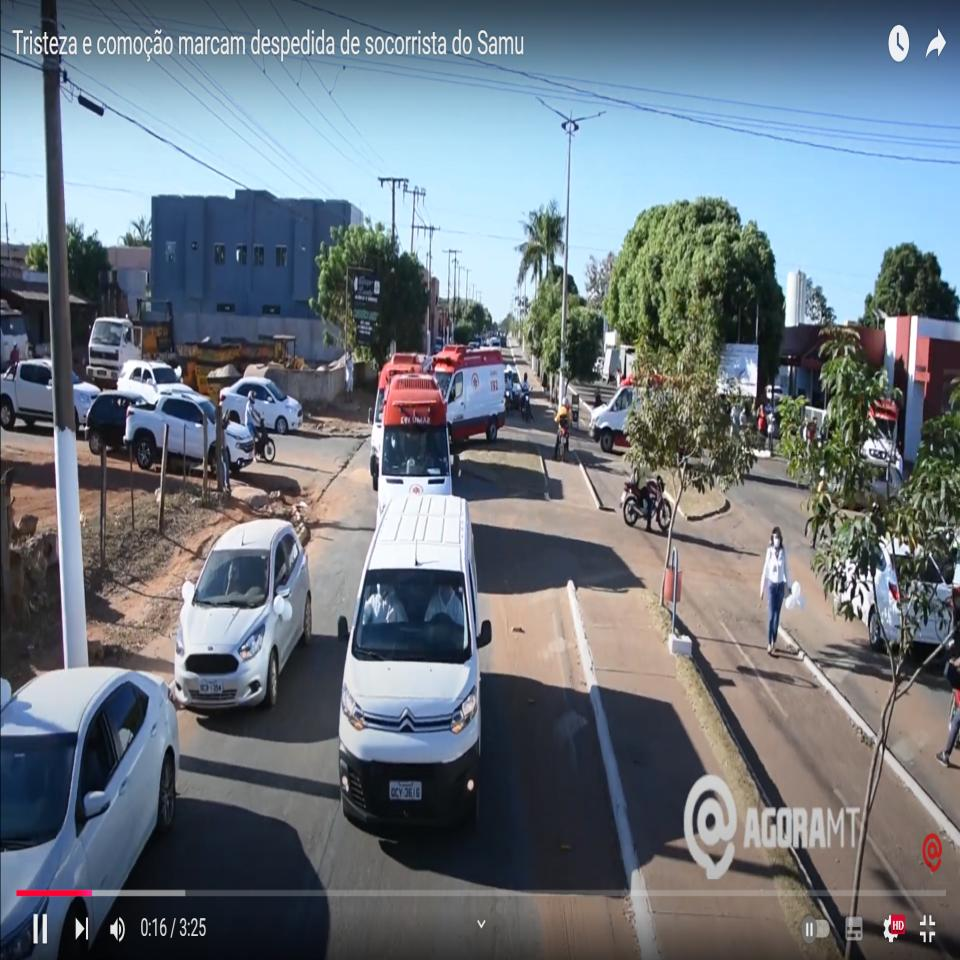bombeiro: (372, 373, 461, 497), (432, 344, 506, 449)
